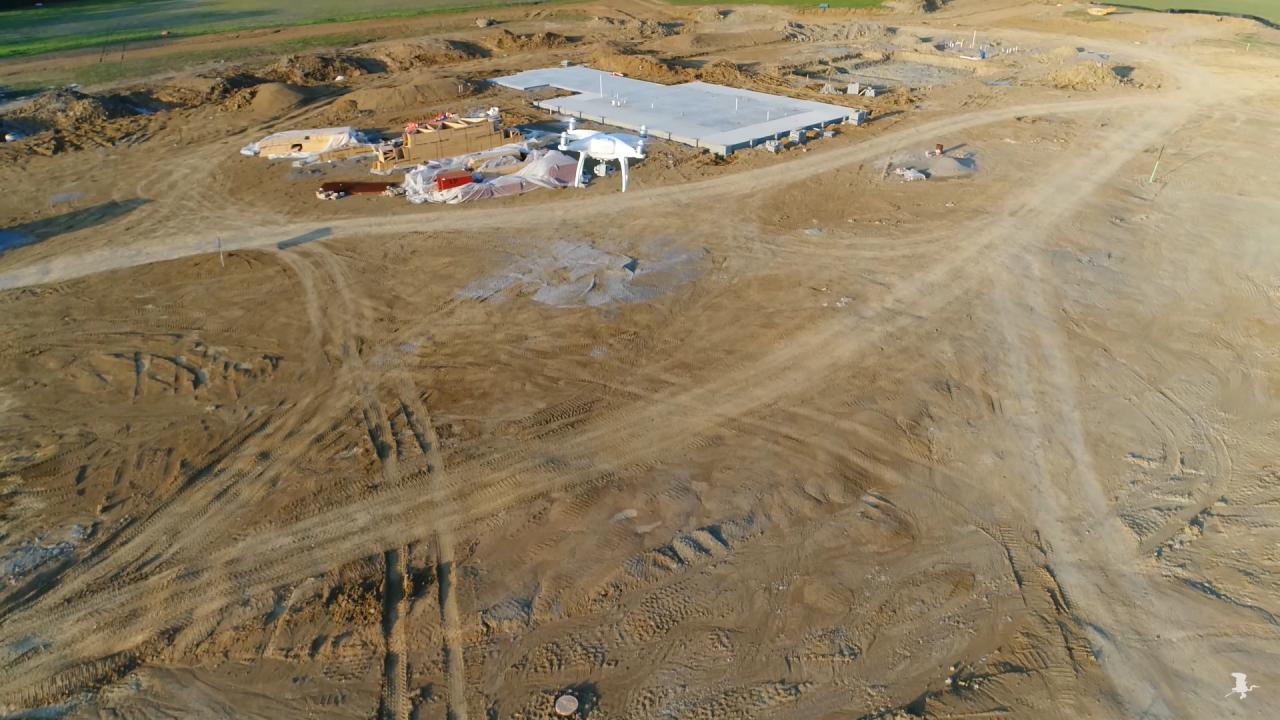Drone: (526, 108, 680, 198)
